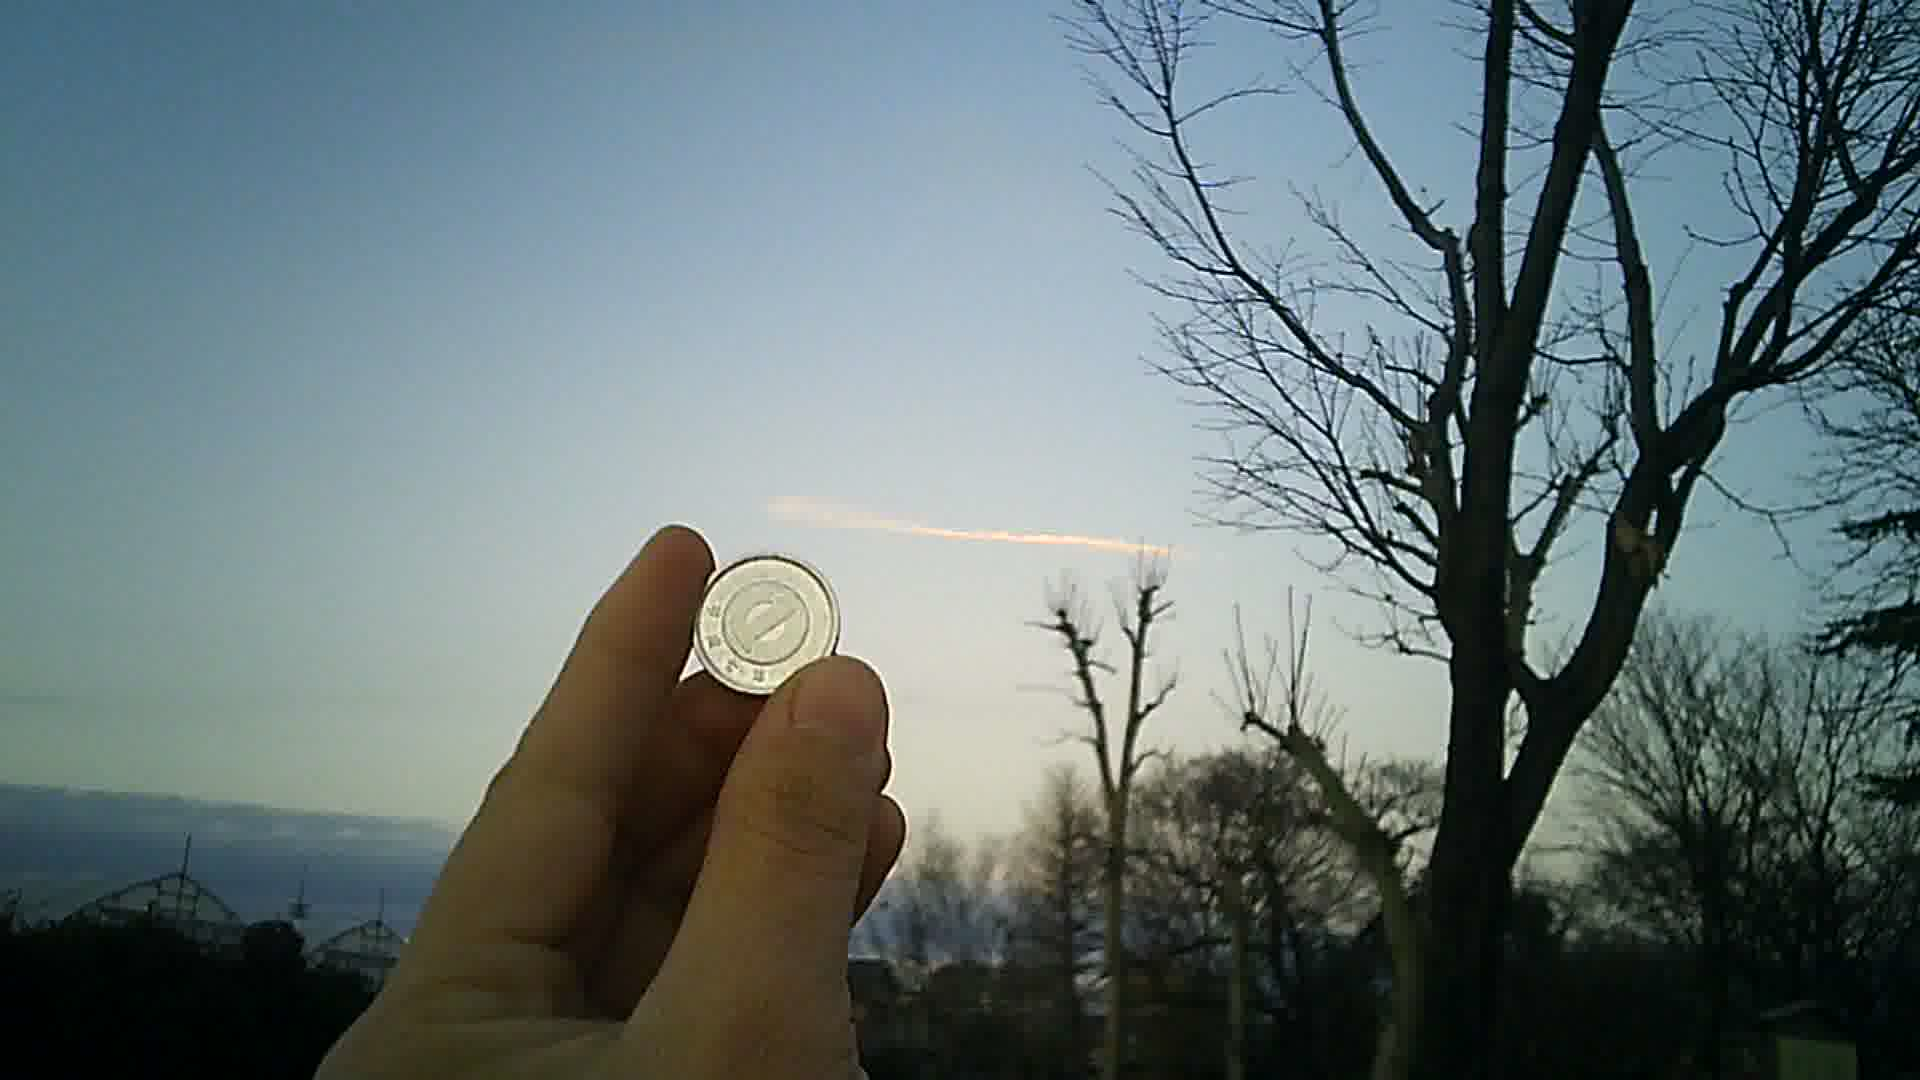1 Yen: (676, 549, 853, 712)
